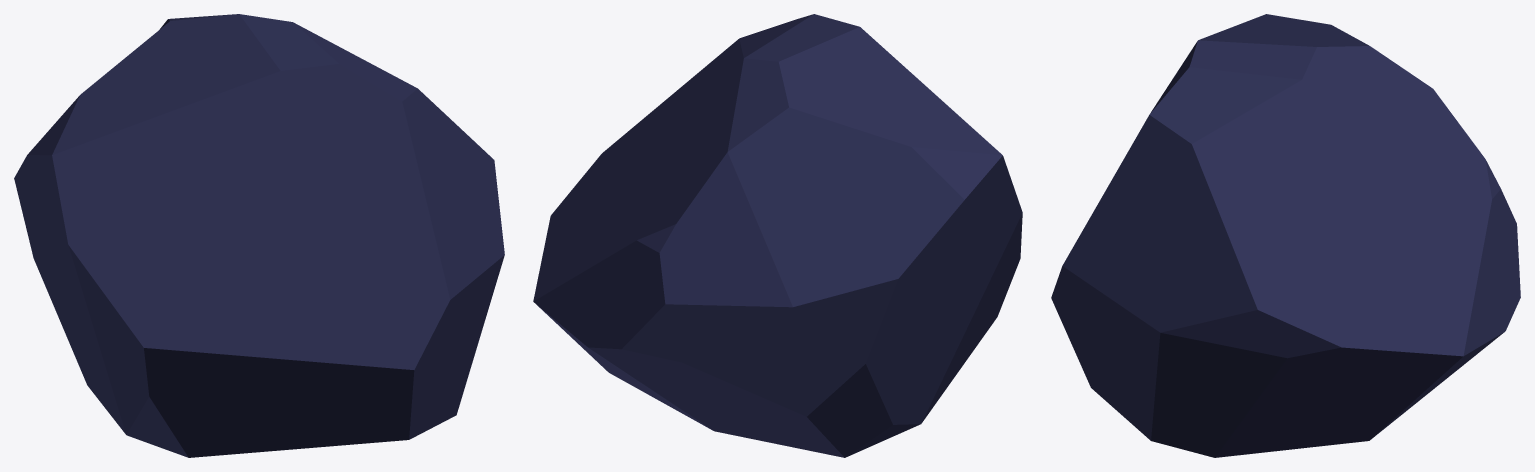
Rendered from stone2.fbx.
3 views of the same model, side by side, from view 1: azimuth 30°, elevation 25°; view 2: azimuth 150°, elevation 25°; view 3: azimuth 270°, elevation 25° (orthographic). The views are drawn at different scales.
Parts seen in each view (by area): view 1: Plane; view 2: Plane; view 3: Plane.
Part boxes in pixels (x1,y1,x2,y2): Plane: (14, 14, 504, 457); Plane: (533, 14, 1022, 457); Plane: (1051, 14, 1520, 457).
Bounding box in the file's own units: 94.43 × 77.07 × 92.84.
